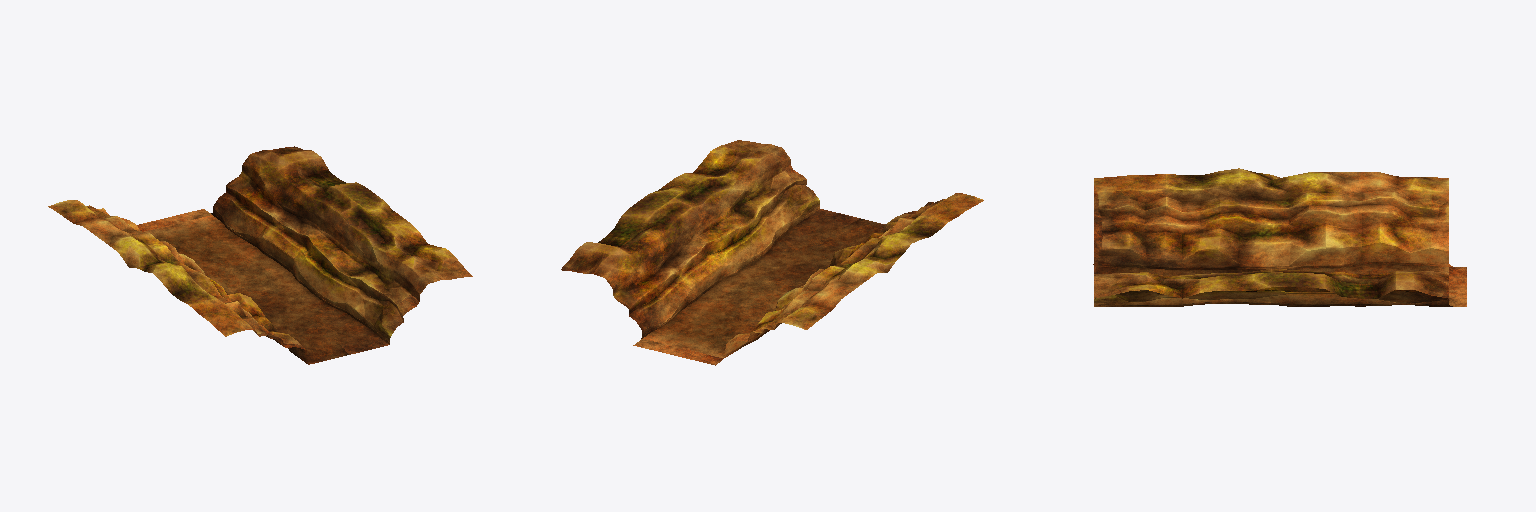
The picture shows the model from 3 angles: view 1: azimuth 30°, elevation 25°; view 2: azimuth 150°, elevation 25°; view 3: azimuth 270°, elevation 25°; orthographic projection.
Visible parts, largest first — view 1: Straight; view 2: Straight; view 3: Straight.
Part boxes in pixels (bbox=[...]): Straight: bbox=[48, 146, 472, 364]; Straight: bbox=[561, 140, 983, 365]; Straight: bbox=[1093, 168, 1466, 306].
Bounding box in the file's own units: 241 × 58.09 × 315.
1 materials, 1 textured.